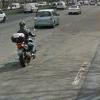Motorcycle: (4, 17, 43, 69)
